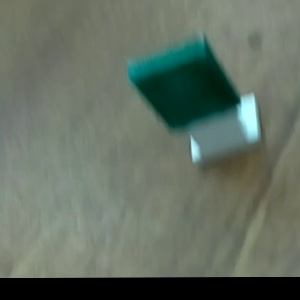rect: (119, 25, 270, 169)
